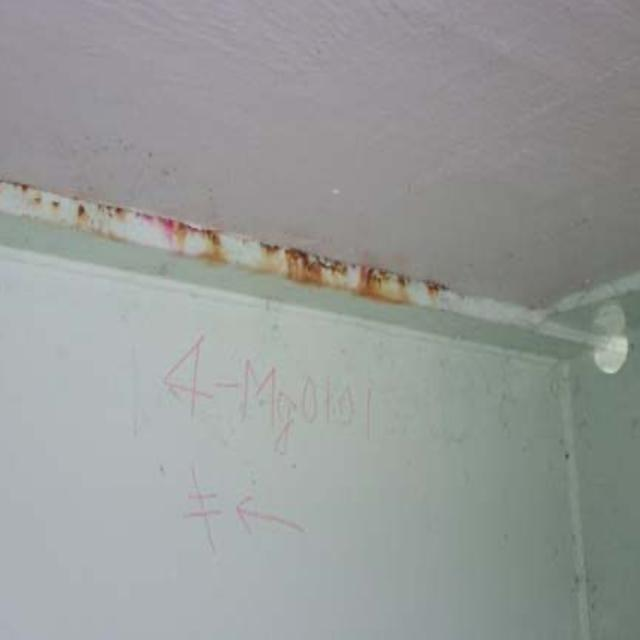corrosion: (27, 186, 447, 314)
